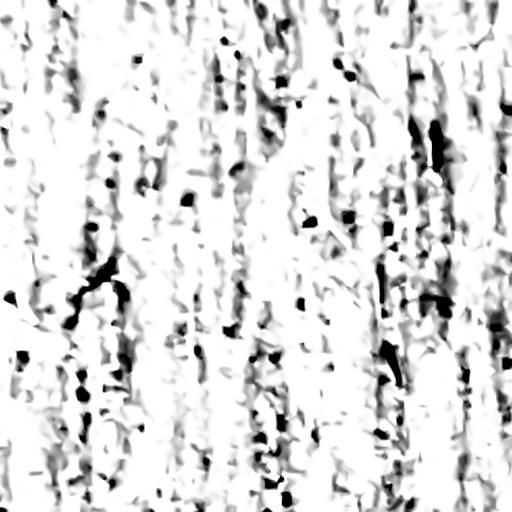egg: (382, 340, 401, 385), (429, 120, 442, 171), (336, 58, 355, 81), (114, 281, 129, 309), (81, 413, 90, 442), (18, 350, 29, 371), (223, 323, 238, 337), (76, 386, 89, 401), (4, 290, 16, 306), (378, 264, 383, 302), (181, 192, 194, 206), (282, 491, 291, 507), (303, 216, 316, 227), (383, 221, 393, 235), (269, 352, 279, 363), (502, 102, 511, 114), (296, 297, 304, 310)
